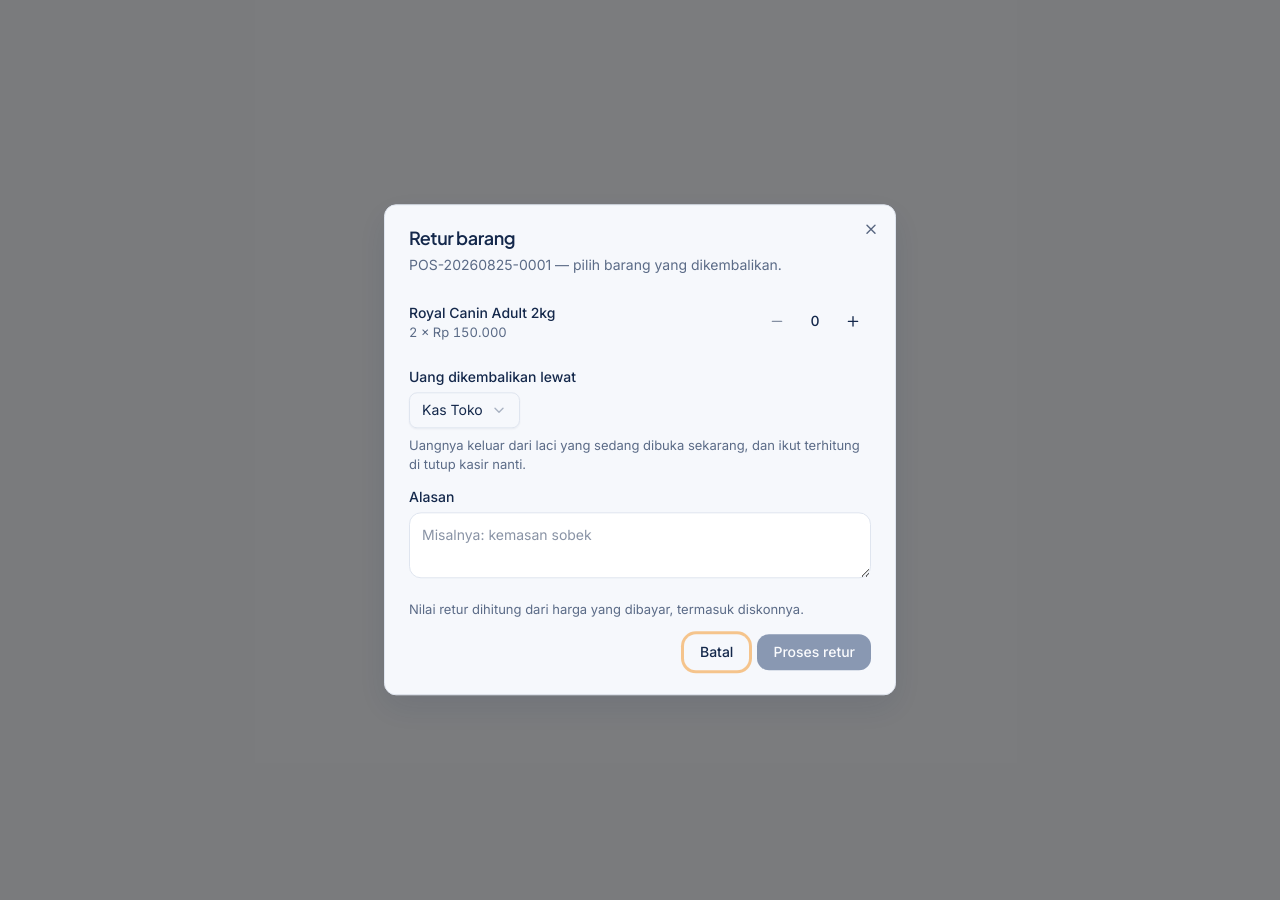
Test: ReturnDialog › will not offer more than the server says is left
Click the button named "tambah royal" at (853, 321), box [835,303,871,339]
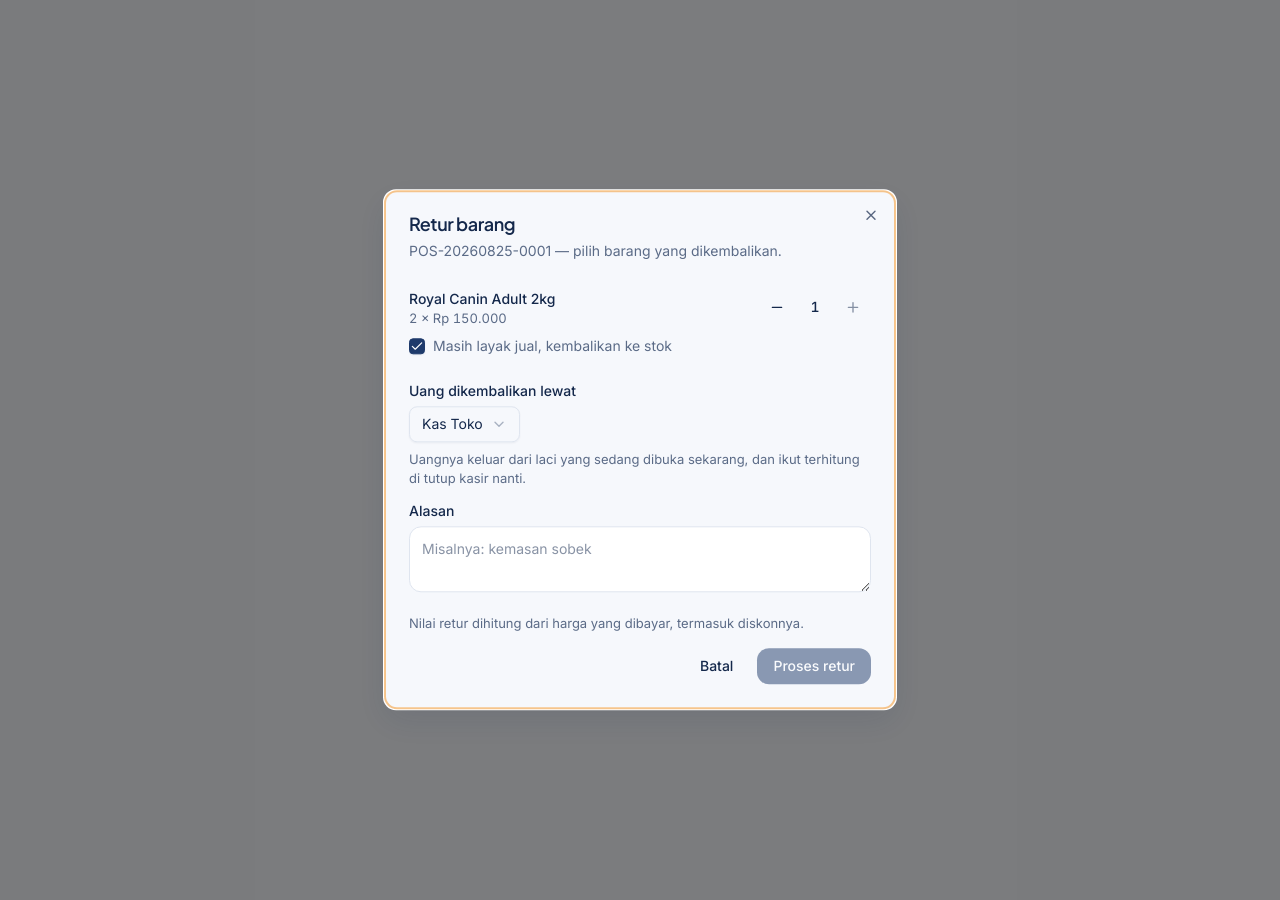
Check: the button named "tambah royal" is disabled, box [835,289,871,325]
